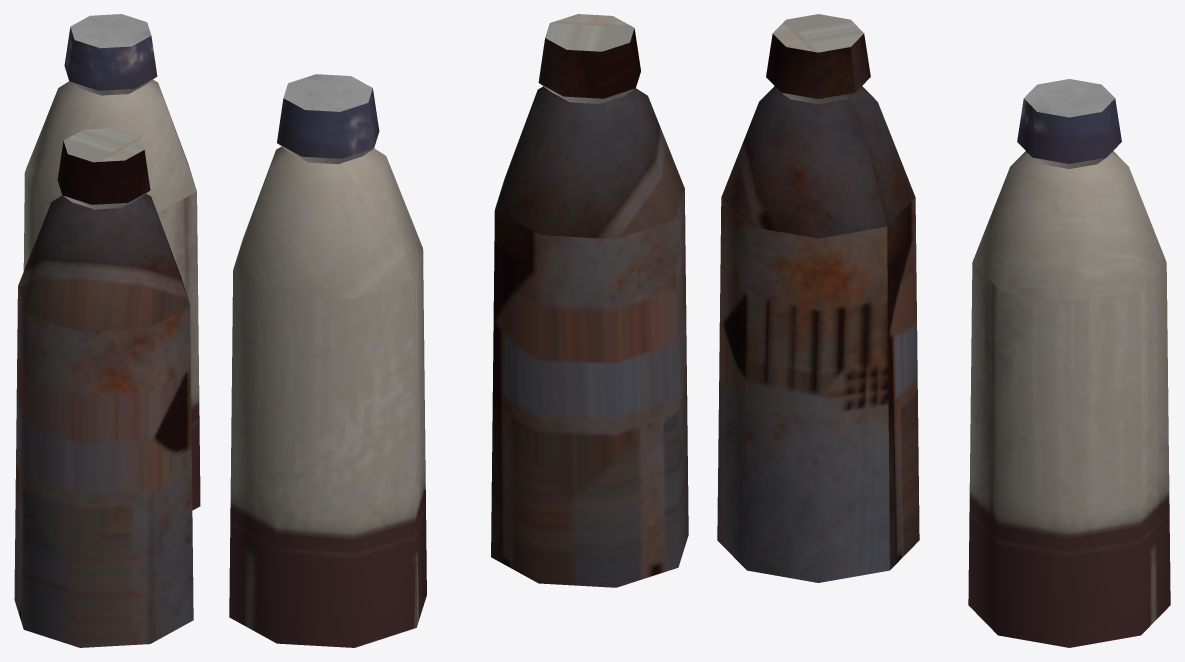
The model's file is Bottles1.fbx.
The picture shows the model from 3 angles, left to right: view 1: azimuth 30°, elevation 25°; view 2: azimuth 150°, elevation 25°; view 3: azimuth 270°, elevation 25°; orthographic projection. The views are drawn at different scales.
Parts seen in each view (by area): view 1: Bottles1; view 2: Bottles1; view 3: Bottles1.
Boxes of the visible parts, <box> form: Bottles1: <box>14,14,200,647</box>; Bottles1: <box>229,14,688,647</box>; Bottles1: <box>717,14,1170,647</box>.
Bounding box in the file's own units: 24.86 × 39.09 × 31.68.
